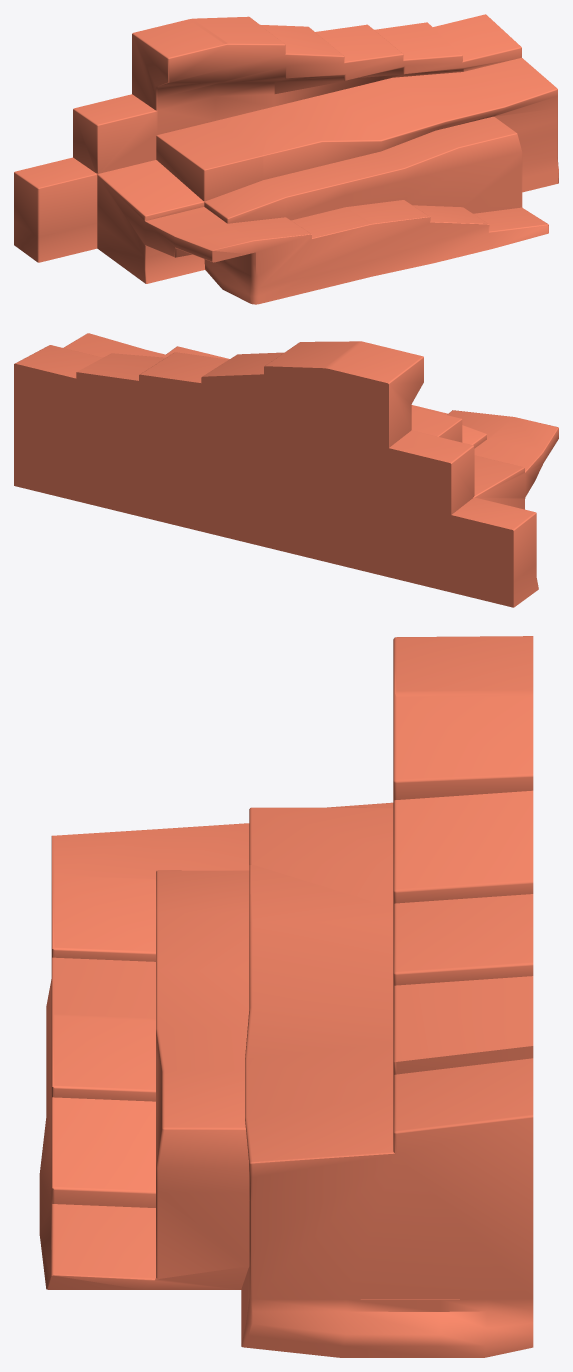
File: Escade de pedras.fbx
3 views of the same model, one above another, from view 1: azimuth 30°, elevation 25°; view 2: azimuth 150°, elevation 25°; view 3: azimuth 270°, elevation 25° (orthographic). The views are drawn at different scales.
Parts seen in each view (by area): view 1: Plataforma.001; view 2: Plataforma.001; view 3: Plataforma.001.
Boxes of the visible parts, left/top/right/bottom form: Plataforma.001: left=14, top=14, right=558, bottom=304; Plataforma.001: left=14, top=333, right=558, bottom=607; Plataforma.001: left=39, top=636, right=533, bottom=1357.
Bounding box in the file's own units: 10.25 × 3.71 × 4.53.
